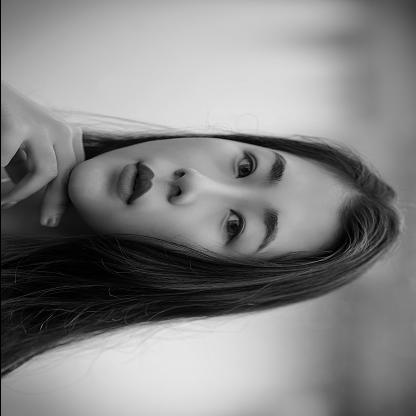Eye: (218, 209, 250, 247), (228, 152, 260, 180)
Mouth: (116, 160, 158, 206)
Nose: (166, 168, 234, 206)
